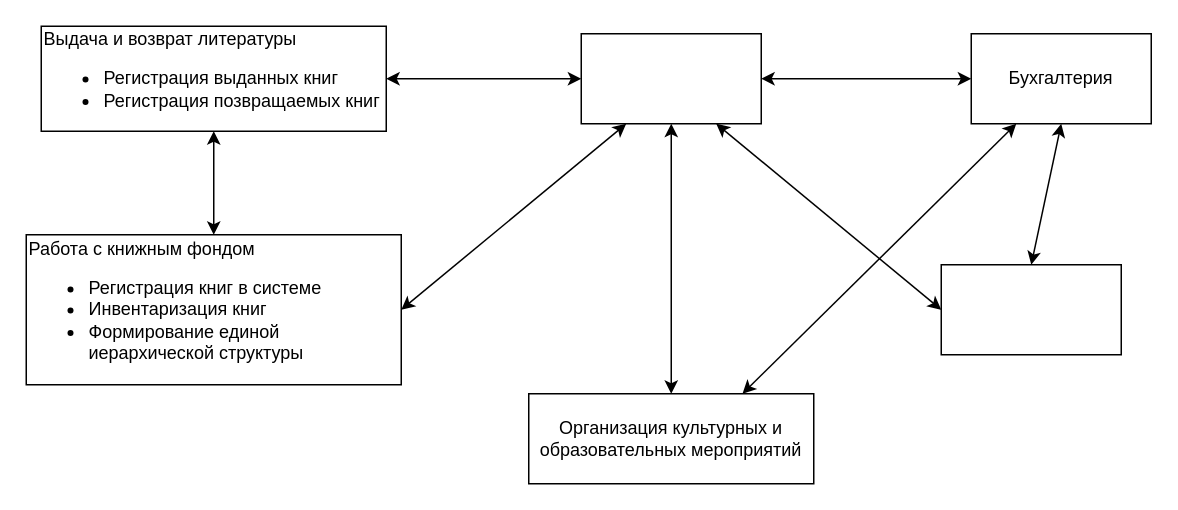
Image size: 1178x510. Some labels were removed from this diagram. The centre of each missing label's shape, as x and y in pixels:
"Ремонт и восстановление книг" goes at (x=1030, y=309).
"Управление" goes at (x=670, y=78).
